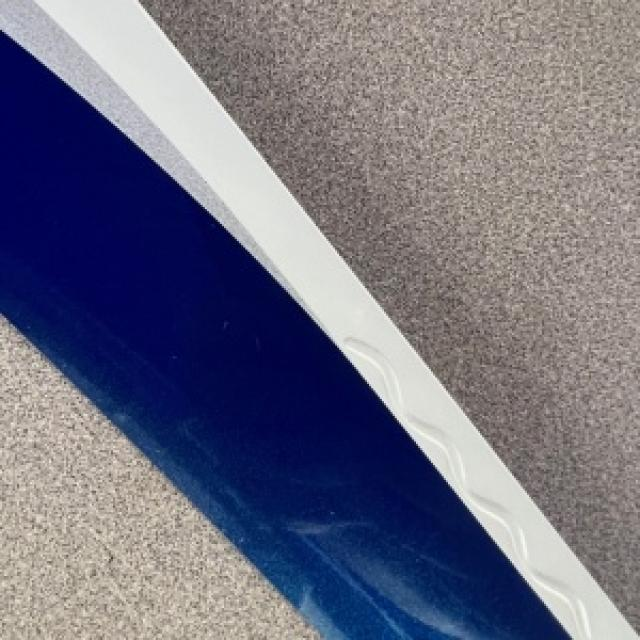healthy: (474, 273, 634, 576)
